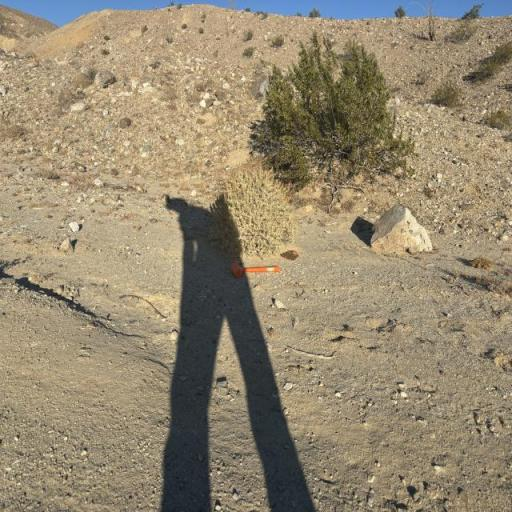mallet: (224, 258, 282, 280)
